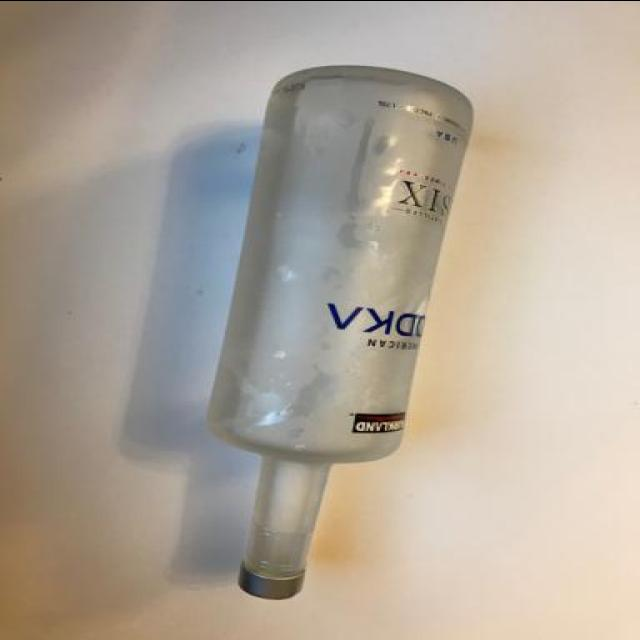Glass Bottle: (196, 60, 486, 602)
